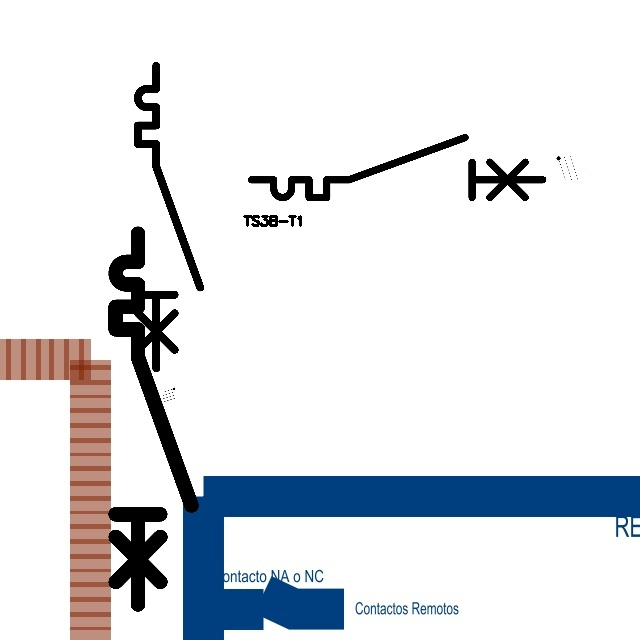interruptor_termomagnetico: (106, 224, 201, 614), (130, 58, 208, 376), (244, 130, 550, 205)
